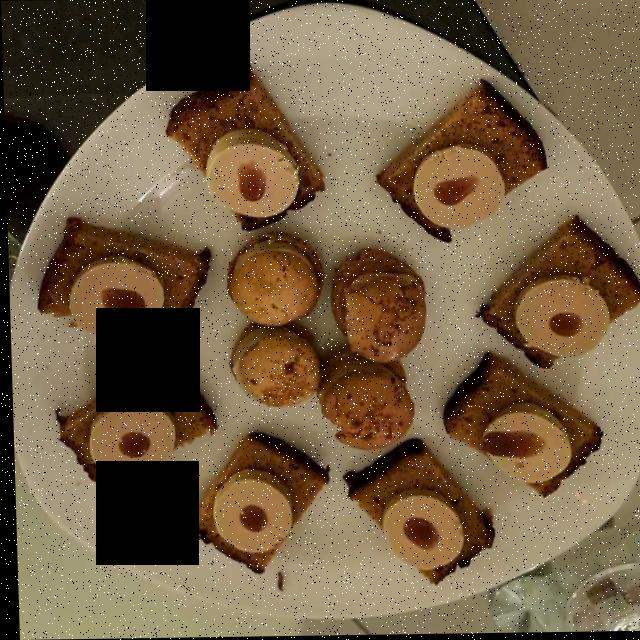macaroon: (226, 240, 429, 450)
